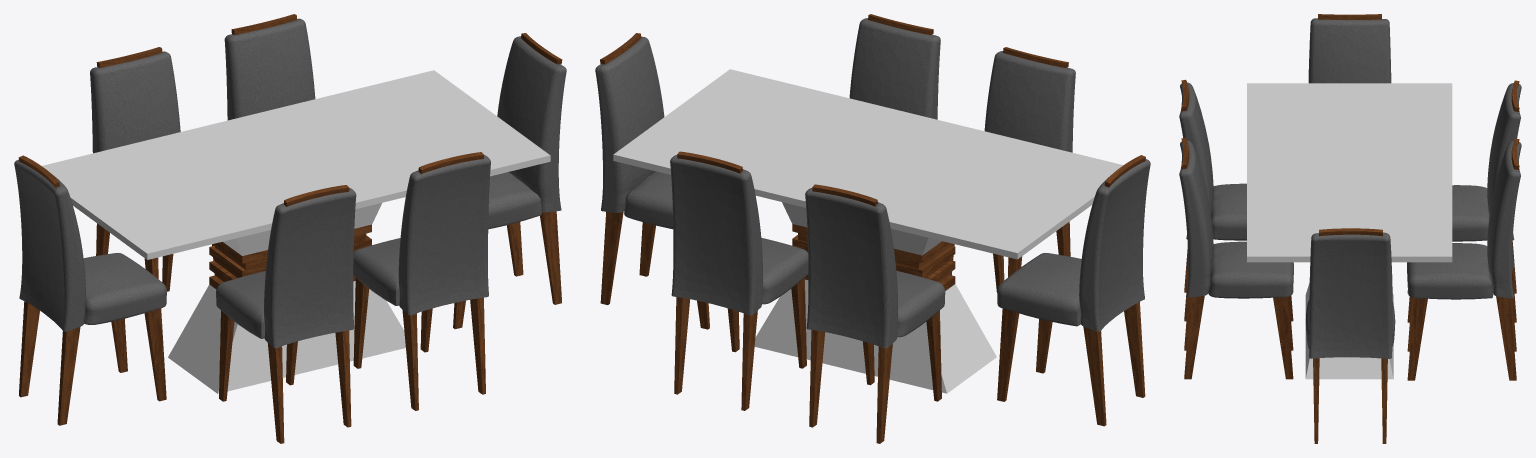
File: mesa003.glb
3 renders of one model, left to right at view 1: azimuth 30°, elevation 25°; view 2: azimuth 150°, elevation 25°; view 3: azimuth 270°, elevation 25°, orthographic. The views are drawn at different scales.
Parts seen in each view (by area): view 1: Plane, Plane.004, Plane.021, Plane.079, Plane.075, Plane.071, Plane.029, Plane.078, Plane.077, Plane.019, Plane.006, Plane.005 (+5 smaller); view 2: Plane, Plane.071, Plane.075, Plane.079, Plane.029, Plane.021, Plane.004, Plane.078, Plane.077, Plane.069, Plane.073, Plane.074 (+5 smaller); view 3: Plane, Plane.029, Plane.079, Plane.070, Plane.020, Plane.021, Plane.071, Plane.069, Plane.019, Plane.074, Plane.005, Plane.004 (+4 smaller).
Part boxes in pixels (x1=…): Plane: x1=42, y1=70, x2=550, y2=393; Plane.004: x1=264, y1=188, x2=356, y2=348; Plane.021: x1=398, y1=155, x2=490, y2=315; Plane.079: x1=14, y1=159, x2=85, y2=331; Plane.075: x1=90, y1=51, x2=180, y2=153; Plane.071: x1=224, y1=18, x2=315, y2=120; Plane.029: x1=497, y1=36, x2=566, y2=212; Plane.078: x1=83, y1=253, x2=166, y2=324; Plane.077: x1=19, y1=301, x2=166, y2=425; Plane.019: x1=353, y1=277, x2=485, y2=410; Plane.006: x1=219, y1=310, x2=351, y2=443; Plane.005: x1=216, y1=271, x2=265, y2=338; Plane: x1=613, y1=69, x2=1123, y2=393; Plane.071: x1=670, y1=155, x2=762, y2=315; Plane.075: x1=805, y1=188, x2=897, y2=348; Plane.079: x1=1079, y1=159, x2=1150, y2=331; Plane.029: x1=595, y1=36, x2=664, y2=212; Plane.021: x1=849, y1=18, x2=940, y2=119; Plane.004: x1=984, y1=51, x2=1075, y2=152; Plane.078: x1=997, y1=253, x2=1081, y2=326; Plane.077: x1=997, y1=302, x2=1145, y2=426; Plane.069: x1=674, y1=277, x2=806, y2=410; Plane.073: x1=809, y1=310, x2=941, y2=443; Plane.074: x1=896, y1=270, x2=945, y2=337; Plane: x1=1247, y1=83, x2=1452, y2=379; Plane.029: x1=1309, y1=232, x2=1392, y2=358; Plane.079: x1=1308, y1=18, x2=1391, y2=83; Plane.070: x1=1407, y1=243, x2=1493, y2=299; Plane.020: x1=1208, y1=241, x2=1293, y2=298; Plane.021: x1=1179, y1=140, x2=1213, y2=297; Plane.071: x1=1487, y1=141, x2=1521, y2=298; Plane.069: x1=1407, y1=296, x2=1516, y2=380; Plane.019: x1=1184, y1=296, x2=1293, y2=379; Plane.074: x1=1452, y1=185, x2=1489, y2=241; Plane.005: x1=1211, y1=183, x2=1246, y2=240; Plane.004: x1=1179, y1=82, x2=1213, y2=238.
Bounding box in the file's own units: 1.84 × 0.8364 × 1.21.
4 materials, 3 textured.
